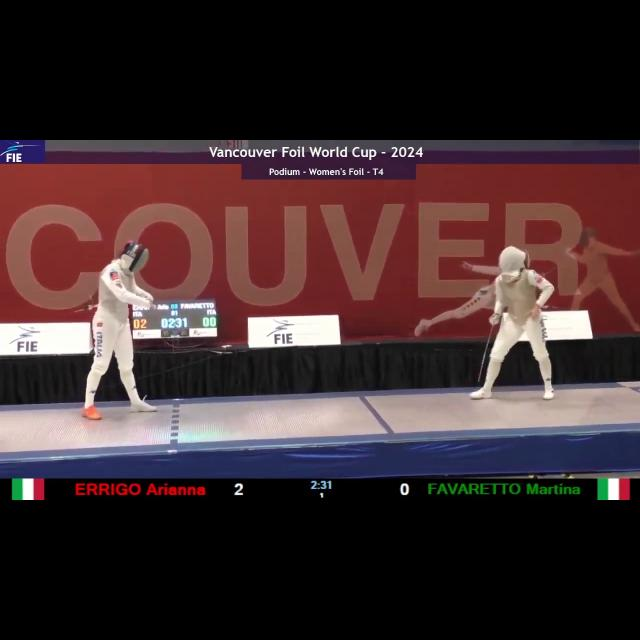blade: (477, 318, 499, 387)
